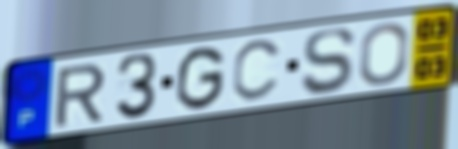3: (113, 51, 160, 122)
C: (229, 36, 286, 105)
G: (173, 43, 228, 113)
O: (357, 20, 411, 88)
R: (52, 61, 109, 130)
S: (299, 25, 357, 98)
